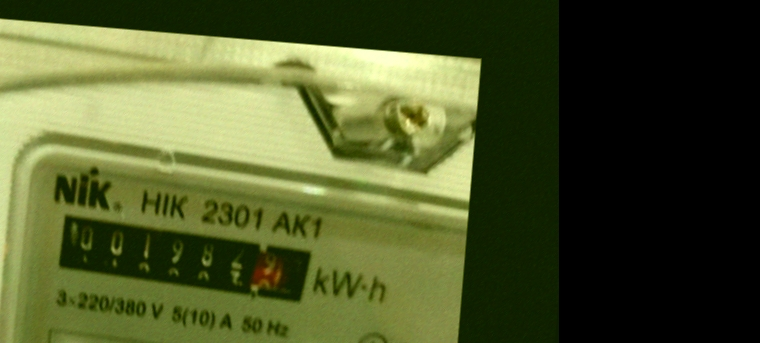0: (107, 227, 127, 257), (78, 221, 96, 251)
1: (139, 229, 154, 259)
2: (229, 240, 249, 270)
8: (199, 238, 217, 268)
9: (259, 248, 281, 278), (168, 235, 185, 265)
screen: (40, 198, 328, 317)
